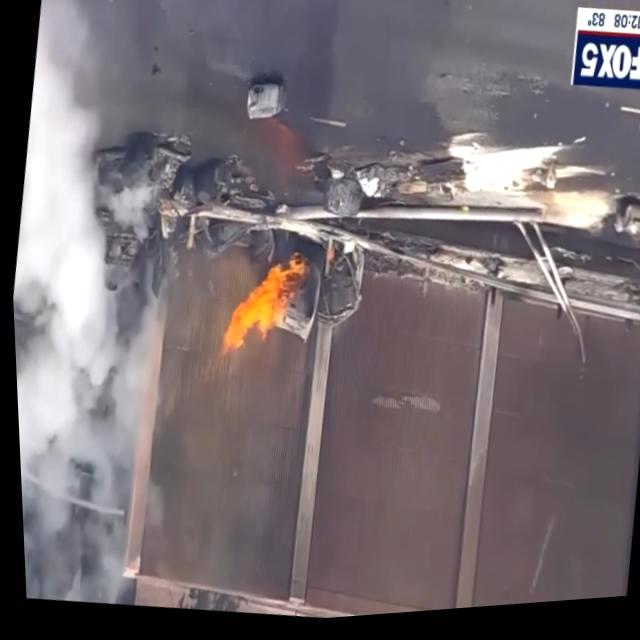fire: (205, 242, 311, 370)
